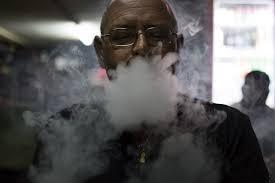smoke: (95, 63, 183, 128), (51, 134, 109, 174), (154, 141, 213, 180)
